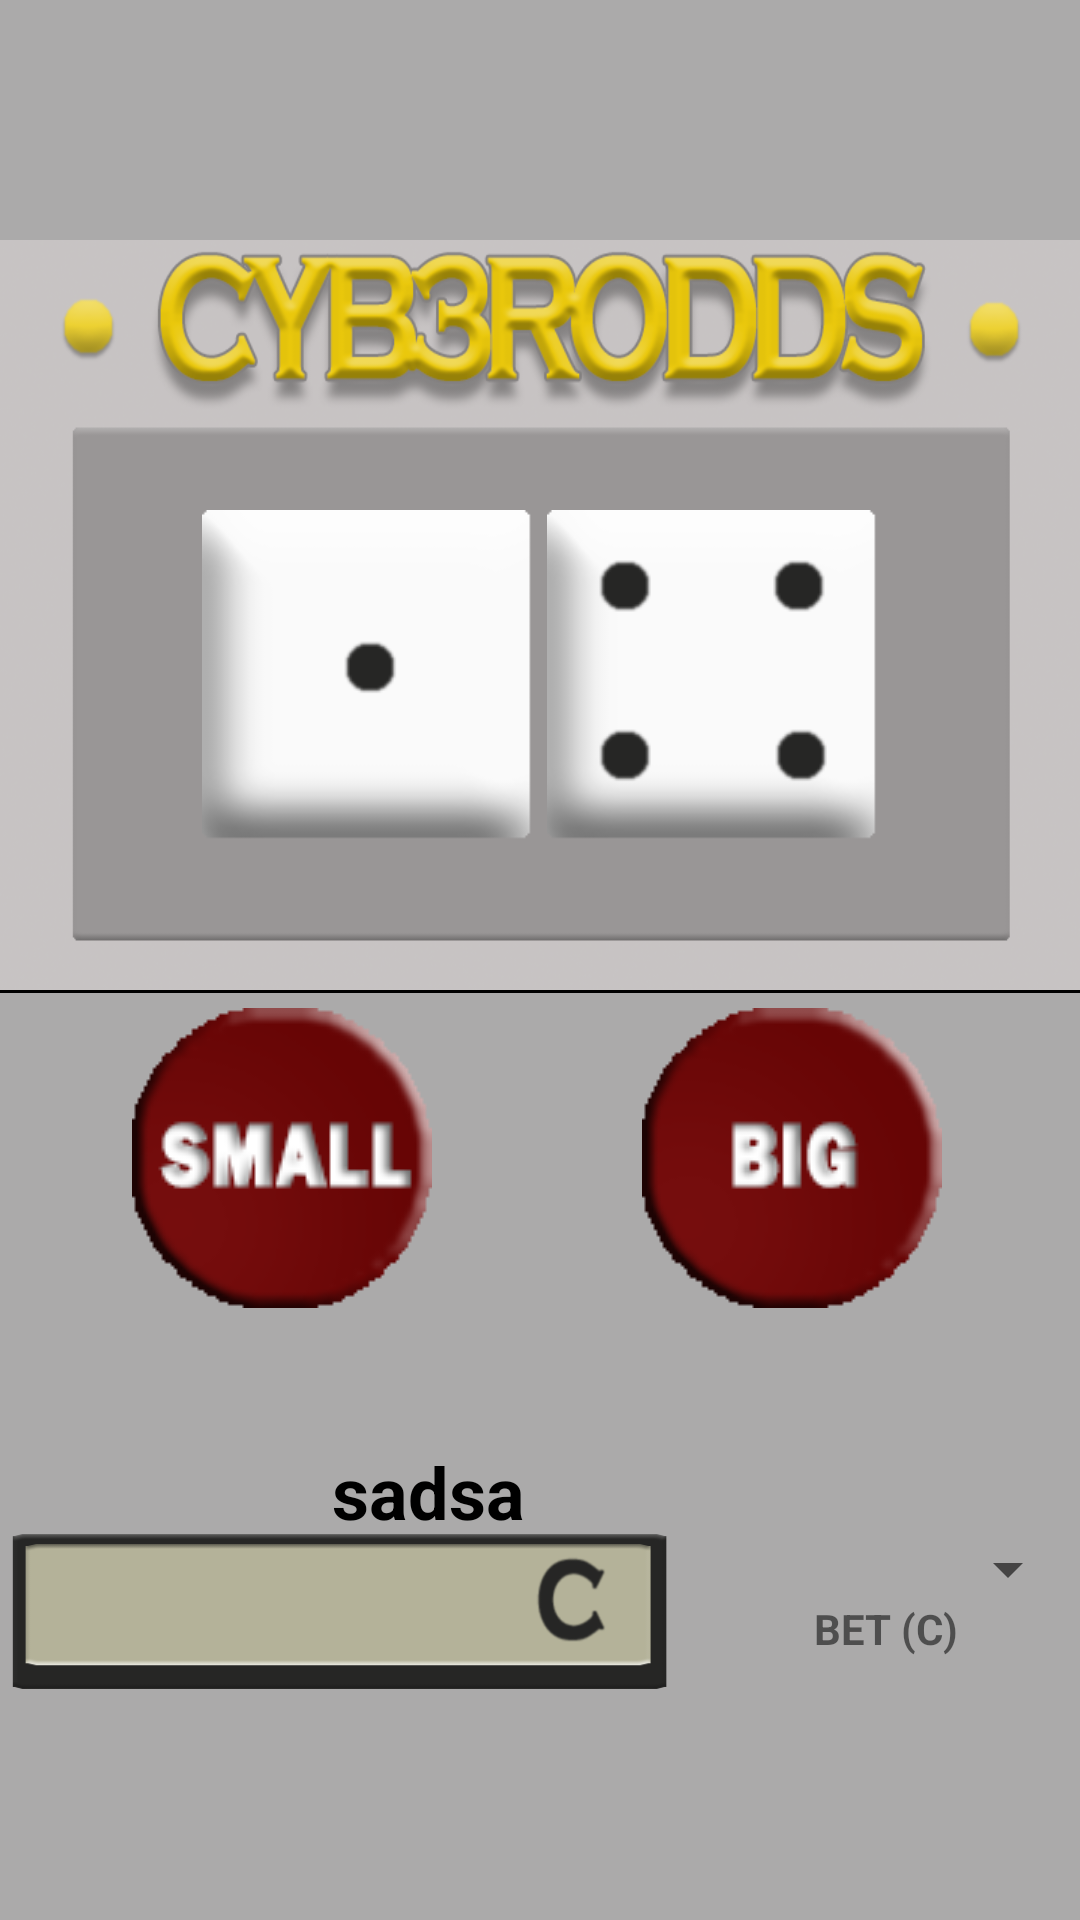

Where to tap for icons on this 1080w x 1920h app screen, as [x,y]:
dicefour: [711,673]
diceone: [366,673]
